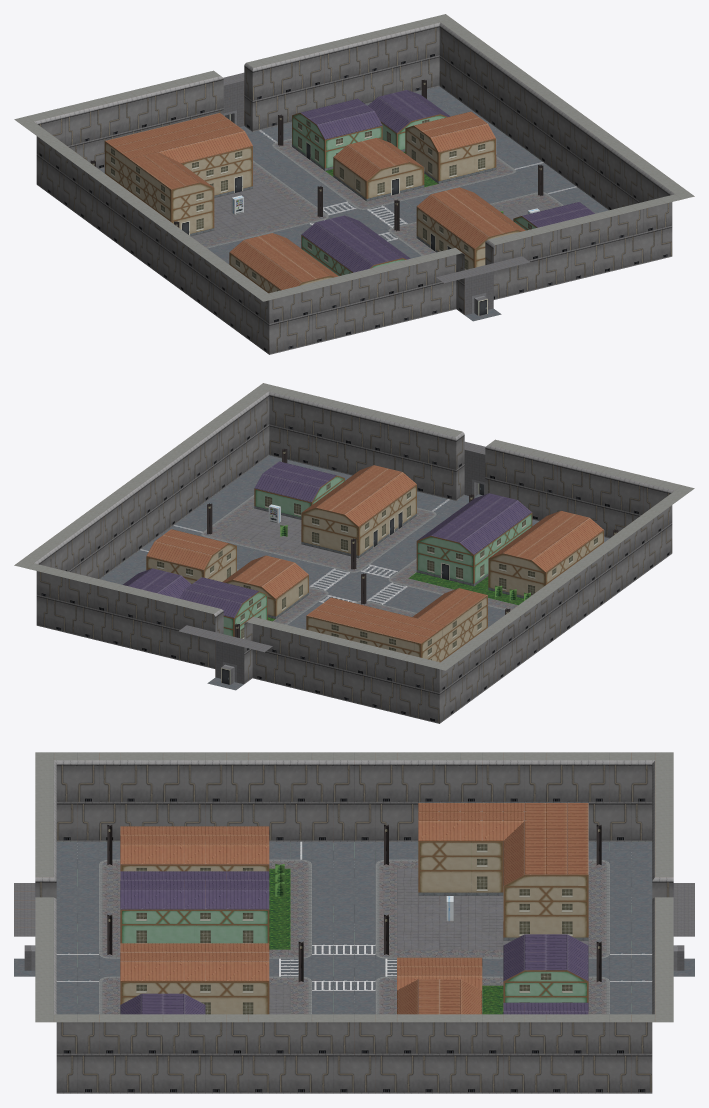
Rendered from town.fbx.
The picture shows the model from 3 angles, top to bottom: view 1: azimuth 30°, elevation 25°; view 2: azimuth 150°, elevation 25°; view 3: azimuth 270°, elevation 25°; orthographic projection. The views are drawn at different scales.
Visible parts, largest first — view 1: Town.001; view 2: Town.001; view 3: Town.001.
Part boxes in pixels (bbox=[...]): Town.001: bbox=[14, 14, 694, 354]; Town.001: bbox=[14, 383, 694, 723]; Town.001: bbox=[14, 752, 694, 1093].
Bounding box in the file's own units: 7200 × 1000 × 7680.
1 material, 1 textured.
